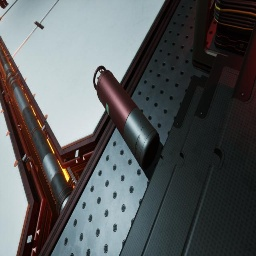FirstAidBox ,: (0, 0, 8, 8)
NitrogenTank ,: (93, 65, 160, 170)
